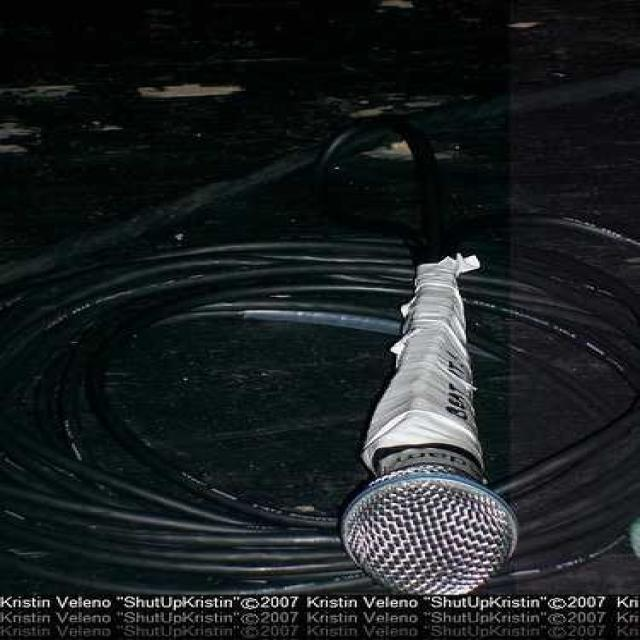microphone: (344, 255, 518, 599)
